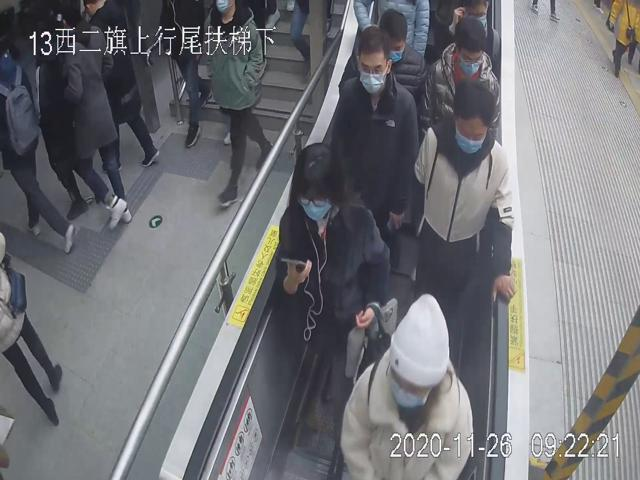person: (275, 140, 392, 408), (411, 73, 516, 313), (341, 292, 473, 480), (331, 25, 420, 266), (418, 16, 501, 137), (338, 5, 424, 94)
